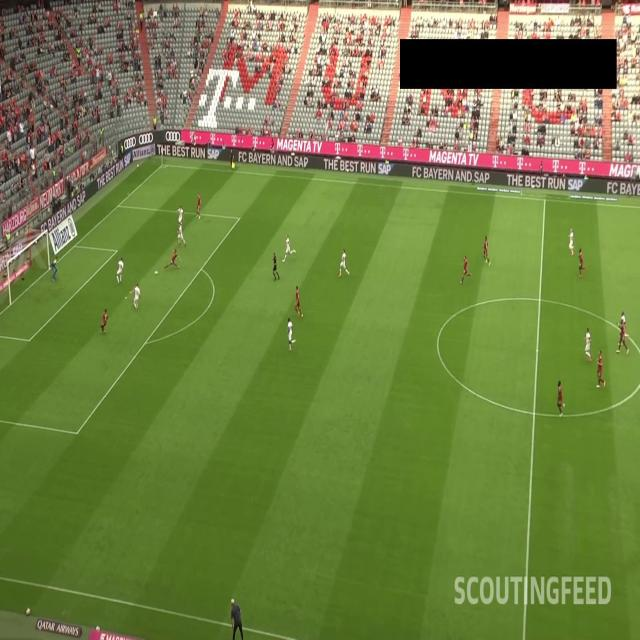ball: (152, 269, 160, 278)
player: (457, 252, 474, 286), (615, 319, 629, 356), (162, 246, 182, 271), (595, 347, 607, 388), (556, 378, 566, 419), (286, 318, 298, 352), (294, 282, 305, 318), (282, 234, 296, 262), (338, 246, 350, 278), (583, 324, 593, 362), (174, 222, 188, 248), (129, 282, 141, 311), (482, 234, 492, 268), (578, 246, 588, 280), (99, 306, 110, 336), (620, 309, 628, 346), (50, 254, 60, 283), (115, 256, 124, 284), (568, 226, 576, 257), (176, 205, 184, 229), (195, 194, 201, 220)
referee: (272, 250, 280, 282), (228, 146, 235, 172)
